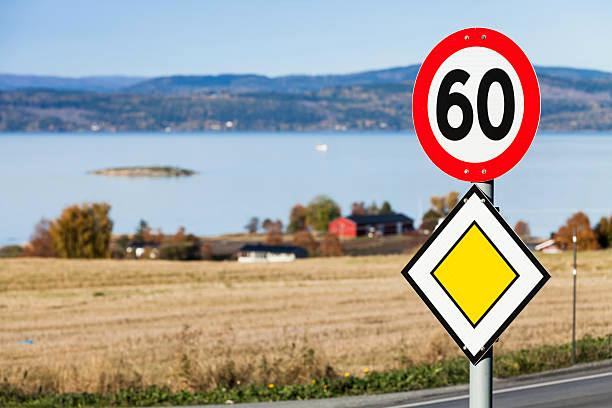Speed Limit -60-: (409, 23, 544, 184)
